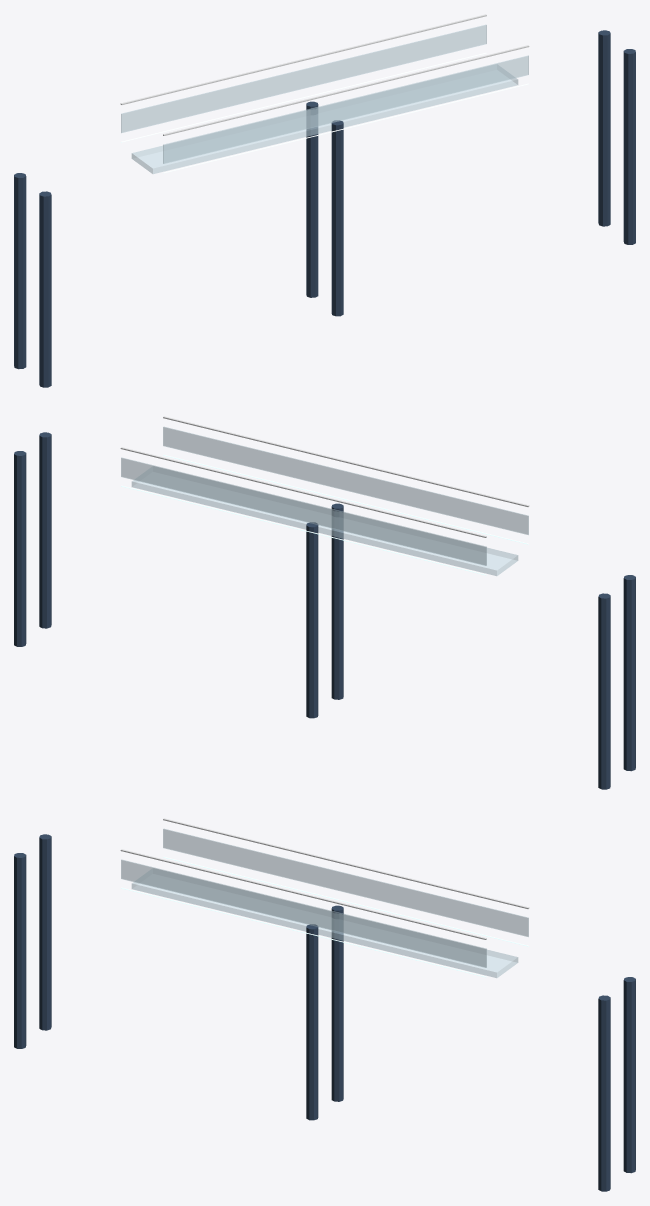
The model's file is reef-glass-bridge.glb.
3 views of the same model, one above another, from view 1: azimuth 30°, elevation 25°; view 2: azimuth 150°, elevation 25°; view 3: azimuth 330°, elevation 25° (orthographic).
Visible parts, largest first — view 1: Cube.018, Cylinder.028, Cube.024, Cube.019; view 2: Cube.018, Cylinder.028, Cube.024, Cube.019; view 3: Cube.018, Cylinder.028, Cube.024, Cube.019.
Boxes of the visible parts, left/top/right/bottom form: Cube.018: left=121, top=24, right=528, bottom=173; Cylinder.028: left=14, top=30, right=635, bottom=387; Cube.024: left=120, top=14, right=529, bottom=135; Cube.019: left=121, top=53, right=528, bottom=173; Cube.018: left=121, top=426, right=528, bottom=575; Cylinder.028: left=14, top=432, right=635, bottom=789; Cube.024: left=120, top=416, right=529, bottom=537; Cube.019: left=121, top=455, right=528, bottom=575; Cube.018: left=121, top=828, right=528, bottom=977; Cylinder.028: left=14, top=834, right=635, bottom=1191; Cube.024: left=120, top=818, right=529, bottom=939; Cube.019: left=121, top=857, right=528, bottom=977.
Size of the model in its own units: 32.6 by 12.03 by 4.1.
